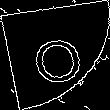O_N: (25, 26, 85, 84)
